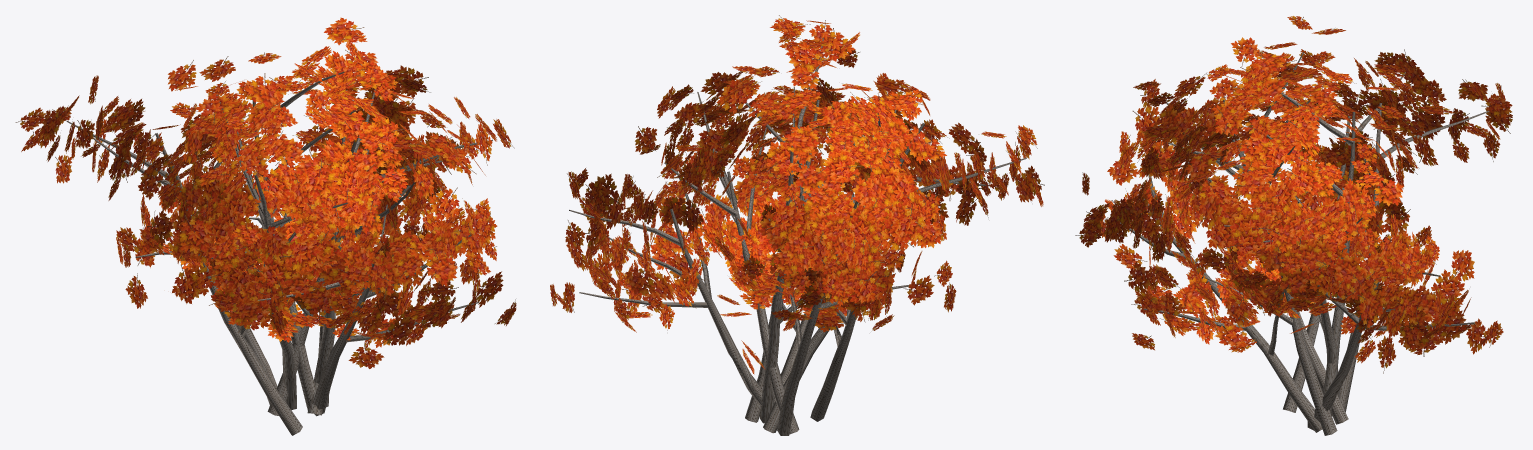
File: tree-bush-c.glb
3 renders of one model, left to right at view 1: azimuth 30°, elevation 25°; view 2: azimuth 150°, elevation 25°; view 3: azimuth 270°, elevation 25°, orthographic. The views are drawn at different scales.
Visible parts, largest first — view 1: leaves, bark; view 2: leaves, bark; view 3: leaves, bark.
Boxes of the visible parts, x1,y1,x2,y2 form: leaves: [15, 17, 516, 368]; bark: [66, 71, 492, 435]; leaves: [550, 15, 1044, 374]; bark: [569, 38, 1026, 435]; leaves: [1075, 16, 1512, 373]; bark: [1120, 52, 1489, 435].
Size of the model in its own units: 2.93 by 2.9 by 3.07.
Materials: 2 (2 with a texture image).
